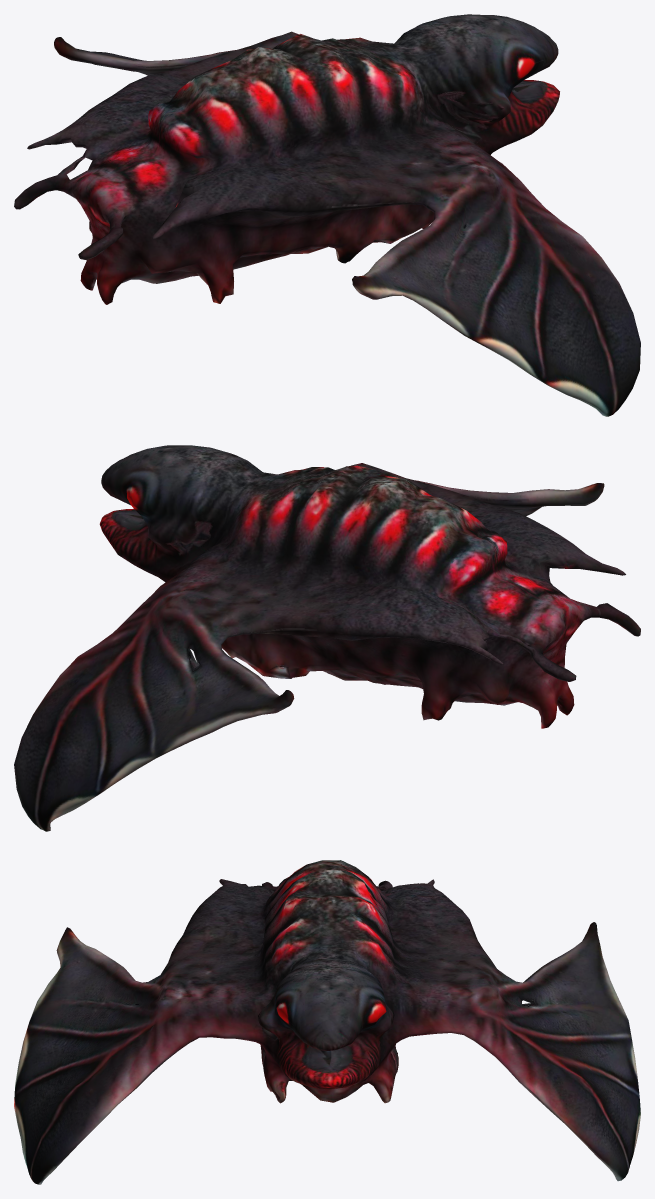
File: 464c4db203d0_44c6e1ff813e_Terrifying_and_Horr.glb
3 renders of one model, top to bottom at view 1: azimuth 30°, elevation 25°; view 2: azimuth 150°, elevation 25°; view 3: azimuth 270°, elevation 25°, orthographic. The views are drawn at different scales.
Parts seen in each view (by area): view 1: mesh; view 2: mesh; view 3: mesh.
Part boxes in pixels (box(x1,y1,x2,y2)): mesh: box(14, 14, 640, 416); mesh: box(14, 445, 640, 831); mesh: box(14, 860, 640, 1184).
Size of the model in its own units: 0.8021 by 0.4204 by 0.9944.
1 material, 1 textured.
